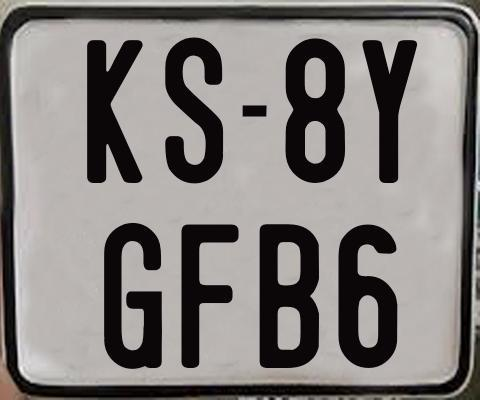6: (335, 223, 399, 368)
8: (284, 37, 348, 185)
B: (259, 221, 321, 365)
F: (179, 222, 241, 366)
G: (103, 223, 163, 372)
K: (85, 38, 144, 187)
S: (164, 34, 223, 186)
Y: (360, 40, 420, 187)
